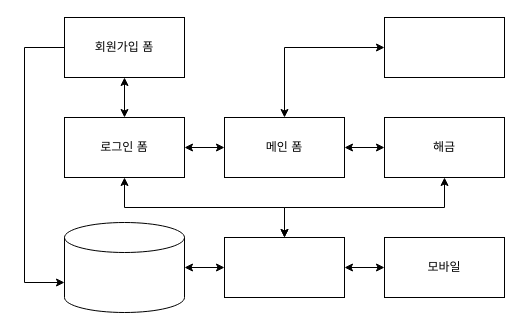
This 522x330 diagram has some shape labels left out. Each missing label, with the centre of its shape:
"DB" belongs at pixel 124 267.
"서버" belongs at pixel 284 267.
"잠금" belongs at pixel 444 47.
